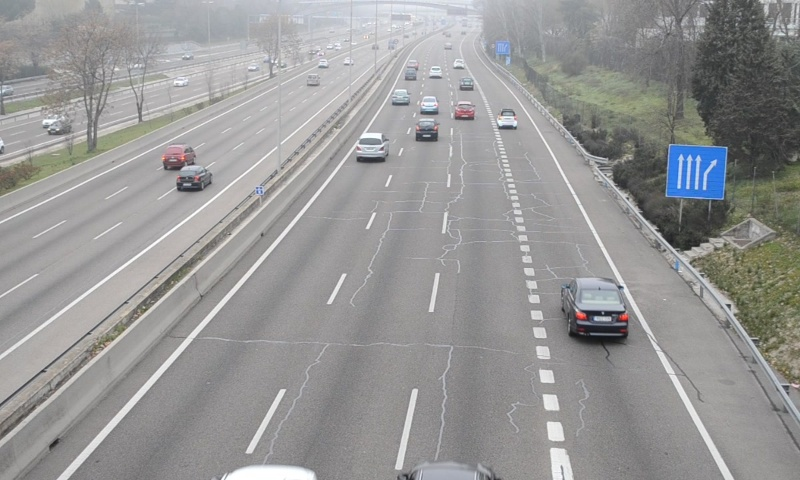car: (562, 278, 632, 339), (356, 132, 389, 160), (415, 118, 439, 140), (496, 107, 518, 130), (453, 100, 476, 122), (419, 95, 439, 115), (390, 88, 410, 106), (458, 76, 474, 91)
